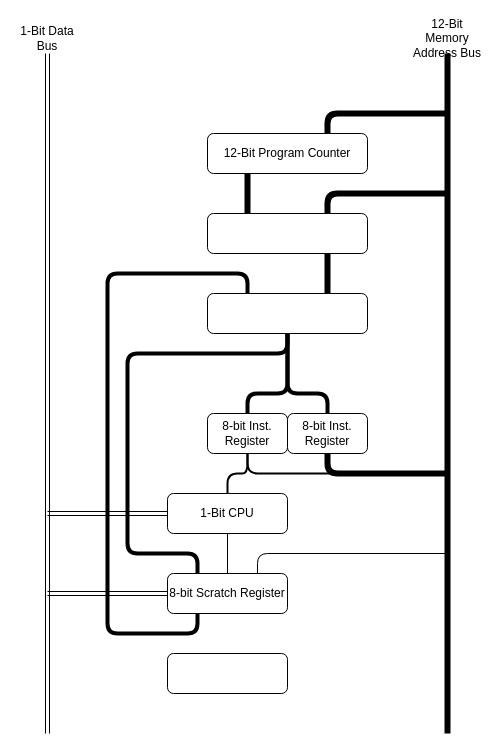
Image size: 504x755. Some labels were removed from this diagram. Each missing label, with the box of its shape:
8-bit UART Register: (166, 652, 288, 694)
MUX: (206, 212, 368, 254)
Program Space (Mix of ROM and RAM): (206, 292, 368, 334)
